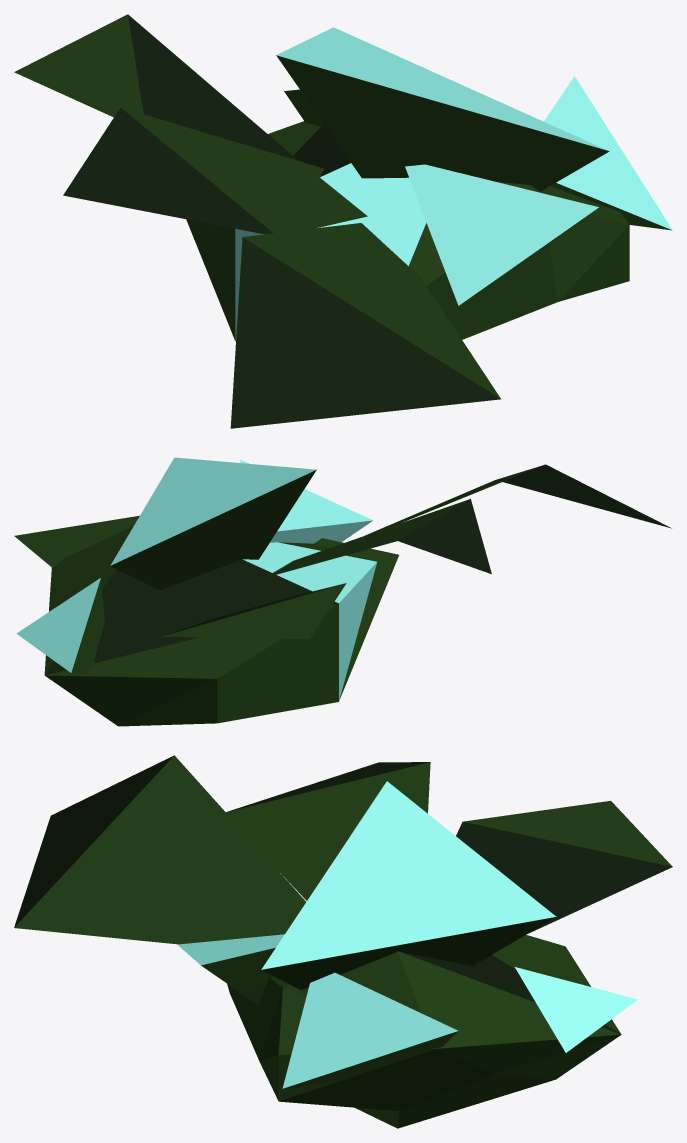
The model's file is Flower_M2_7.fbx.
The picture shows the model from 3 angles, top to bottom: view 1: azimuth 30°, elevation 25°; view 2: azimuth 150°, elevation 25°; view 3: azimuth 270°, elevation 25°; orthographic projection. The views are drawn at different scales.
Parts seen in each view (by area): view 1: Flower_M2_7; view 2: Flower_M2_7; view 3: Flower_M2_7.
Part boxes in pixels (box(x1,y1,x2,y2)): Flower_M2_7: box(14, 14, 672, 428); Flower_M2_7: box(14, 457, 671, 726); Flower_M2_7: box(14, 755, 672, 1128).
Size of the model in its own units: 16.67 by 8.67 by 19.5.
